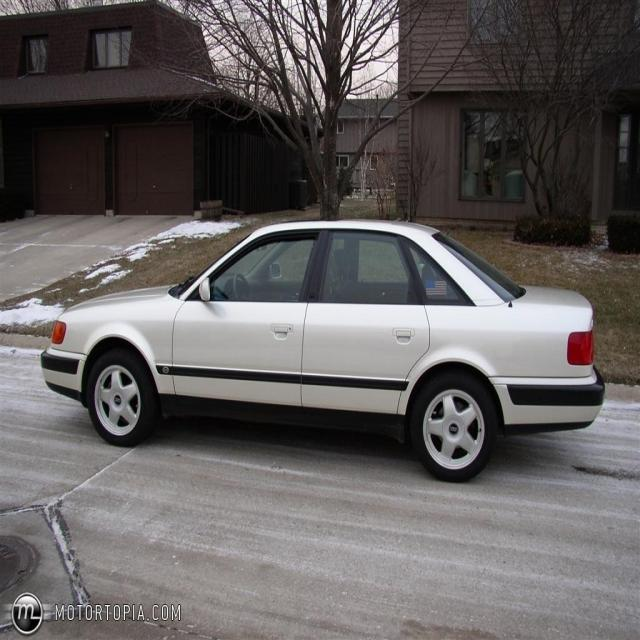car: (15, 208, 614, 511)
